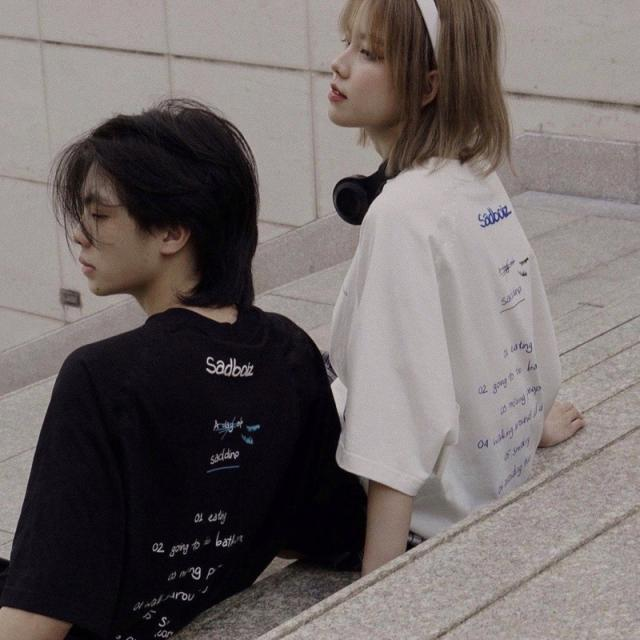Shirt: (0, 304, 378, 639), (330, 146, 568, 536)
